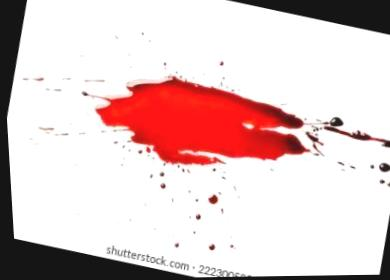Fire: (20, 71, 390, 277)
